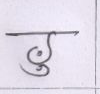u_matra: (19, 63, 51, 78)
